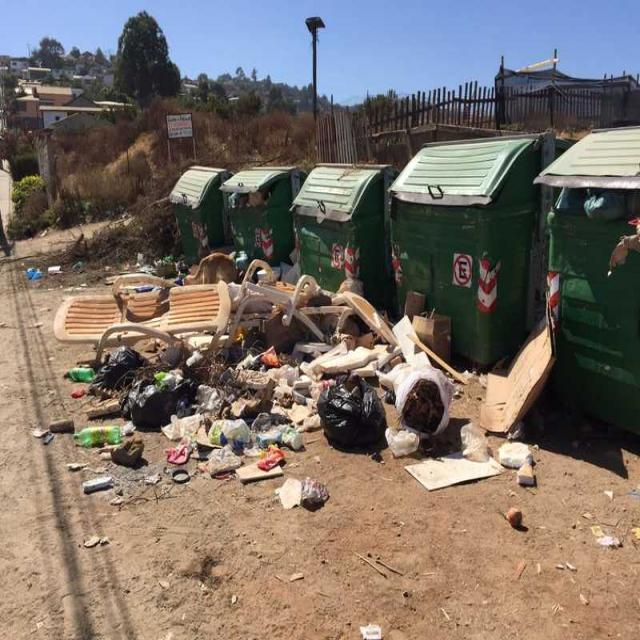high trash: (31, 260, 559, 489)
less trash: (275, 478, 329, 511)
